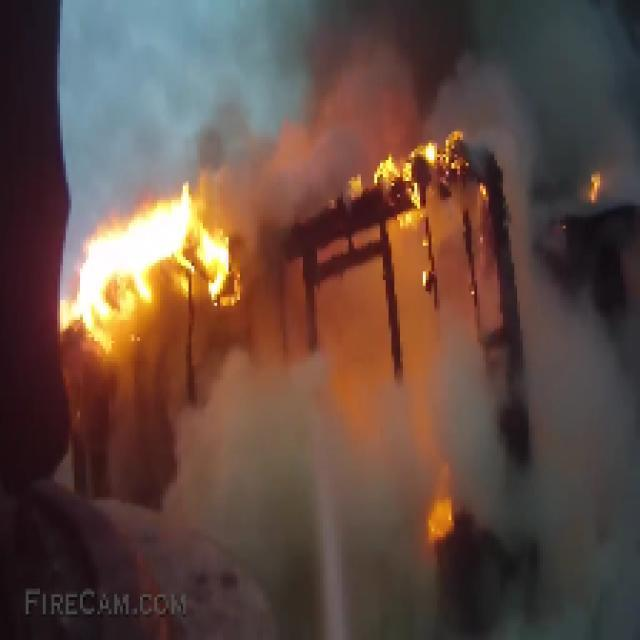Fire: (60, 188, 237, 348), (337, 128, 494, 248), (423, 494, 460, 542)
Smoke: (165, 297, 638, 637), (62, 3, 412, 214), (423, 5, 634, 248)
